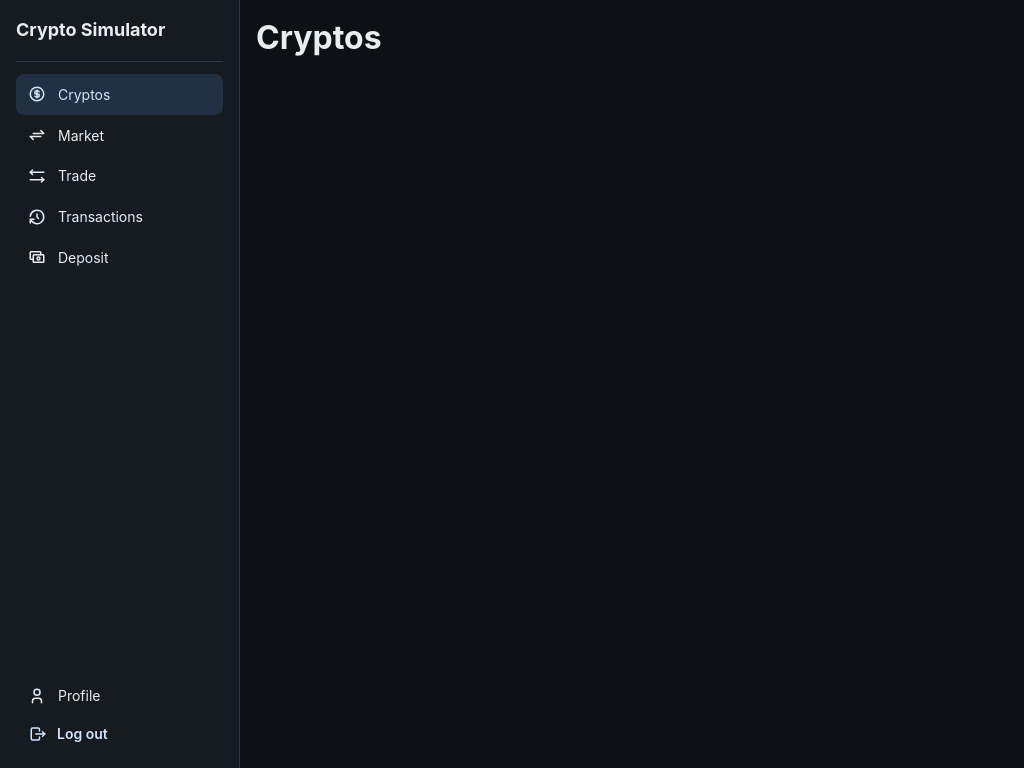
Test: AppLayout › clears the token and shows login when logging out
The image size is (1024, 768).
Click the button "Log out".
click(120, 734)  # box [16,716,223,752]
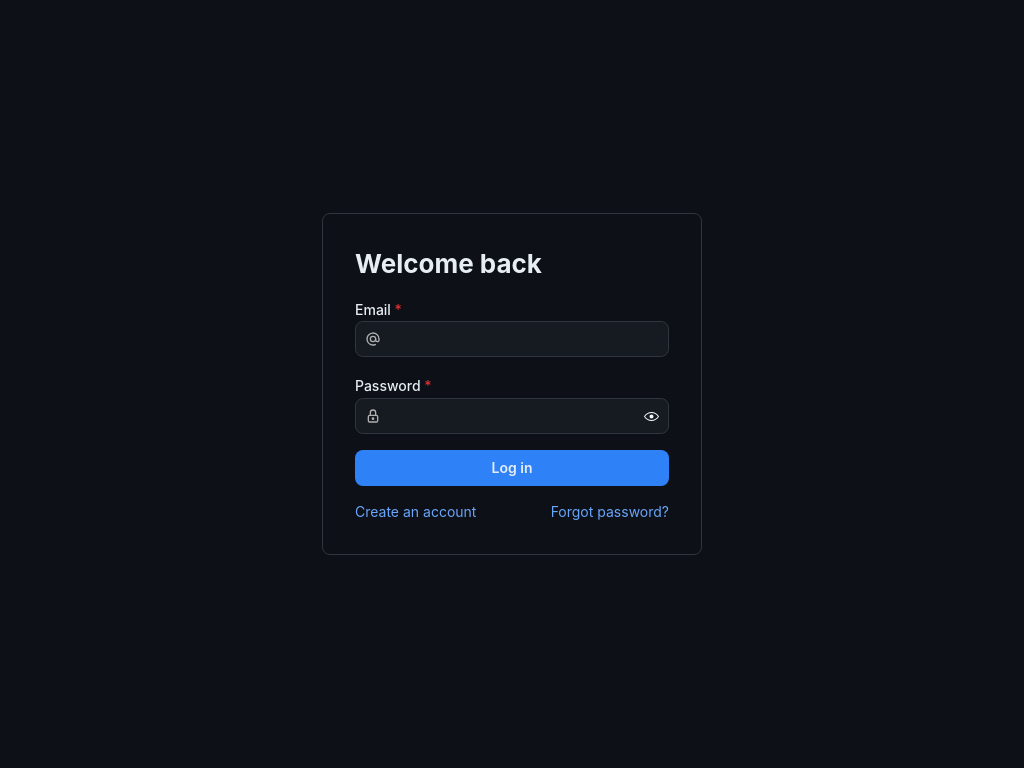
Expected: the heading "Welcome back" is shown, [355,248,542,278]
